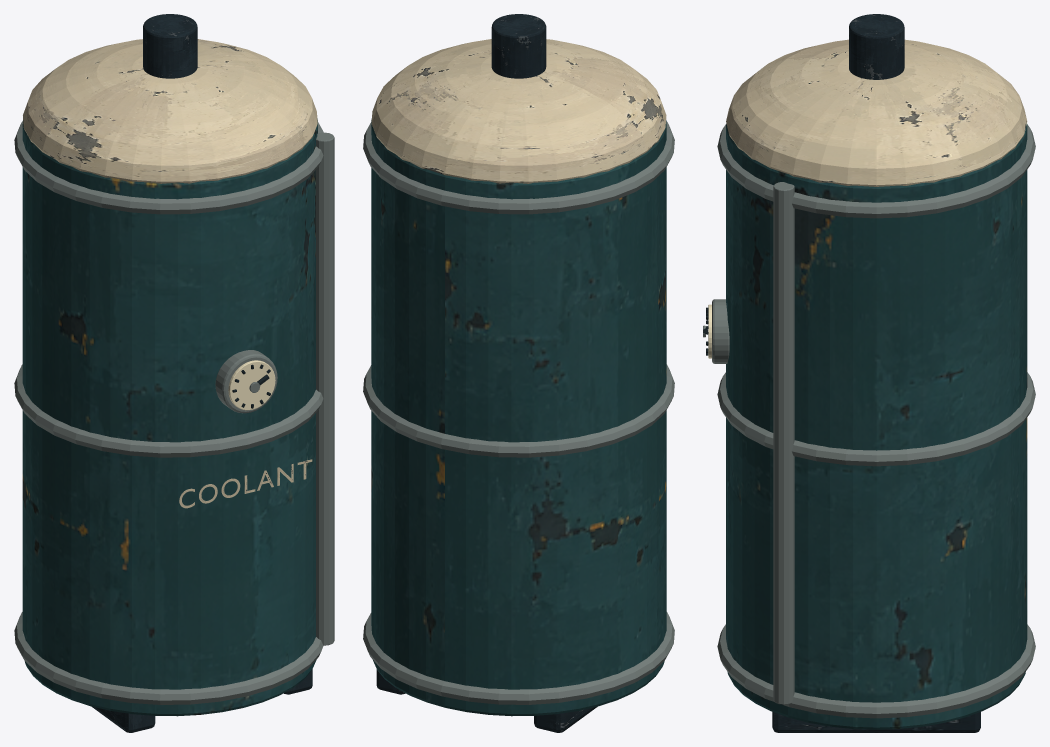
File: coolant-tank.glb
3 views of the same model, side by side, from view 1: azimuth 30°, elevation 25°; view 2: azimuth 150°, elevation 25°; view 3: azimuth 270°, elevation 25° (orthographic).
Visible parts, largest first — view 1: coolant-tank__coolant-tank__petrol, coolant-tank__coolant-tank__ivory, coolant-tank__coolant-tank__hardware, coolant-tank__coolant-tank__steel, coolant-tank__coolant-tank__gauge-face; view 2: coolant-tank__coolant-tank__petrol, coolant-tank__coolant-tank__ivory, coolant-tank__coolant-tank__hardware, coolant-tank__coolant-tank__steel; view 3: coolant-tank__coolant-tank__petrol, coolant-tank__coolant-tank__ivory, coolant-tank__coolant-tank__hardware, coolant-tank__coolant-tank__steel.
Part boxes in pixels (bbox=[...]): coolant-tank__coolant-tank__petrol: bbox=[22, 118, 317, 716]; coolant-tank__coolant-tank__ivory: bbox=[23, 39, 317, 508]; coolant-tank__coolant-tank__hardware: bbox=[14, 121, 334, 704]; coolant-tank__coolant-tank__steel: bbox=[92, 14, 312, 732]; coolant-tank__coolant-tank__gauge-face: bbox=[228, 360, 275, 410]; coolant-tank__coolant-tank__petrol: bbox=[371, 118, 666, 716]; coolant-tank__coolant-tank__ivory: bbox=[371, 39, 666, 183]; coolant-tank__coolant-tank__hardware: bbox=[363, 121, 674, 704]; coolant-tank__coolant-tank__steel: bbox=[376, 14, 597, 732]; coolant-tank__coolant-tank__petrol: bbox=[726, 124, 1027, 729]; coolant-tank__coolant-tank__ivory: bbox=[726, 39, 1027, 186]; coolant-tank__coolant-tank__hardware: bbox=[703, 124, 1035, 718]; coolant-tank__coolant-tank__steel: bbox=[772, 14, 980, 732].
Size of the model in its own units: 1.37 by 3.16 by 1.44.
6 materials, 3 textured.
